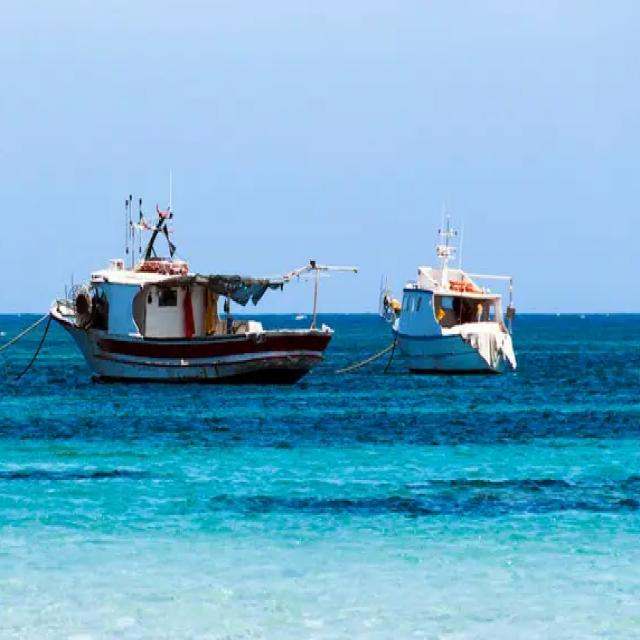fishing boat: (50, 180, 345, 385), (382, 214, 527, 376)
